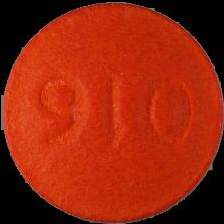0555-9045: (0, 0, 224, 224)
